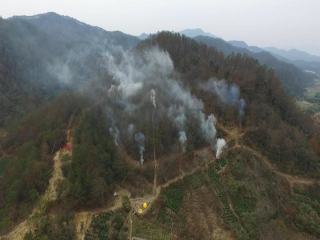smoke: (92, 45, 247, 163)
